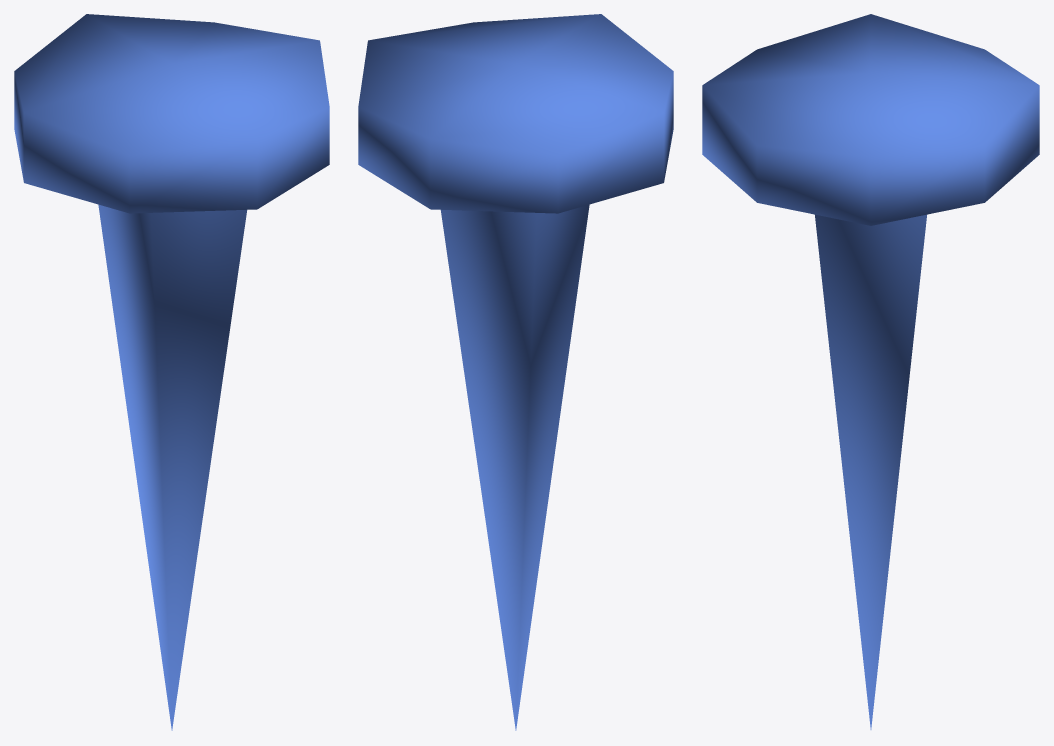
Rendered from Nail.fbx.
3 views of the same model, side by side, from view 1: azimuth 30°, elevation 25°; view 2: azimuth 150°, elevation 25°; view 3: azimuth 270°, elevation 25° (orthographic).
Visible parts, largest first — view 1: Nail; view 2: Nail; view 3: Nail.
Boxes of the visible parts, x1,y1,x2,y2 form: Nail: [14, 14, 329, 730]; Nail: [358, 14, 673, 730]; Nail: [702, 14, 1039, 729].
Size of the model in its own units: 0.0852 by 0.1836 by 0.0852.
